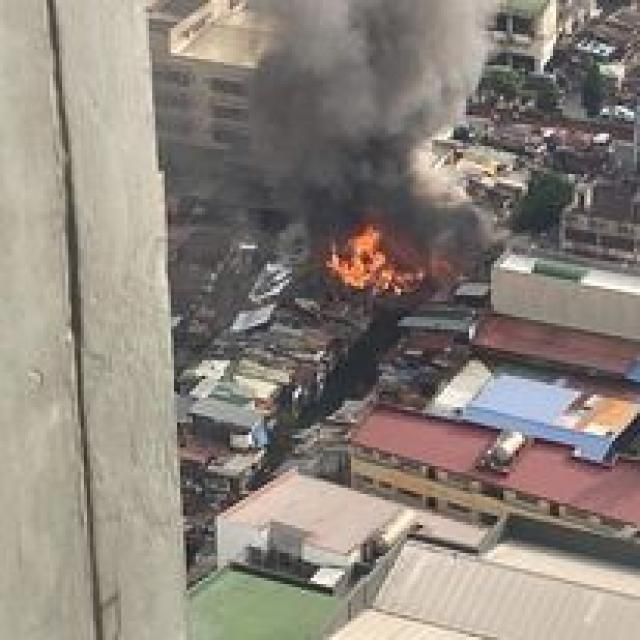Fire: (331, 223, 413, 294)
